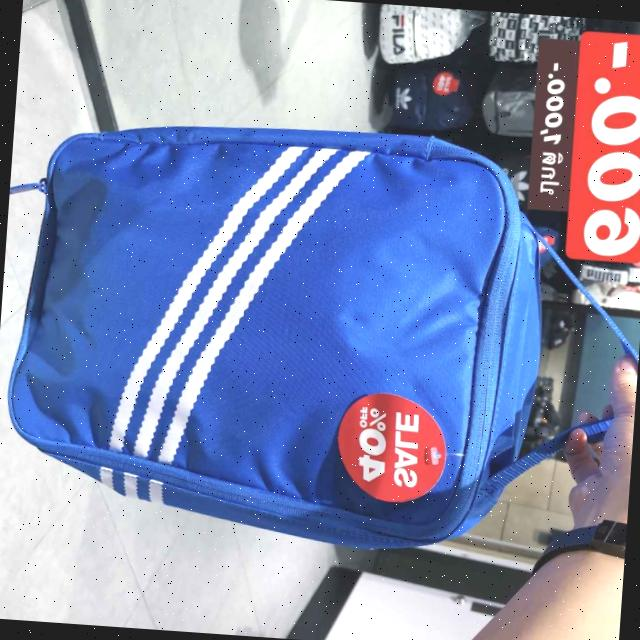Handbag: (0, 107, 558, 564)
